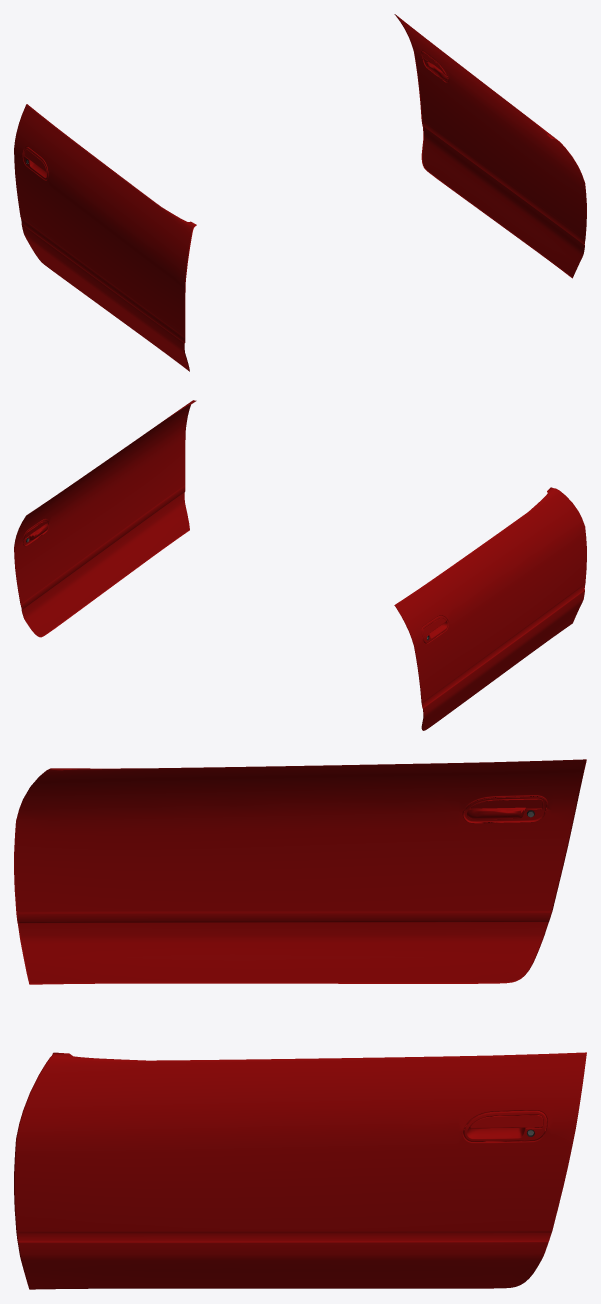
Rendered from doors_ishikawabody.glb.
3 renders of one model, top to bottom at view 1: azimuth 30°, elevation 25°; view 2: azimuth 150°, elevation 25°; view 3: azimuth 270°, elevation 25°, orthographic. The views are drawn at different scales.
Parts seen in each view (by area): view 1: Doors; view 2: Doors; view 3: Doors.
Part boxes in pixels (x1,y1,x2,y2): Doors: [14, 14, 586, 371]; Doors: [14, 400, 586, 730]; Doors: [14, 759, 586, 1289].
Size of the model in its own units: 1.69 by 0.5685 by 1.28.
2 materials, 1 textured.
